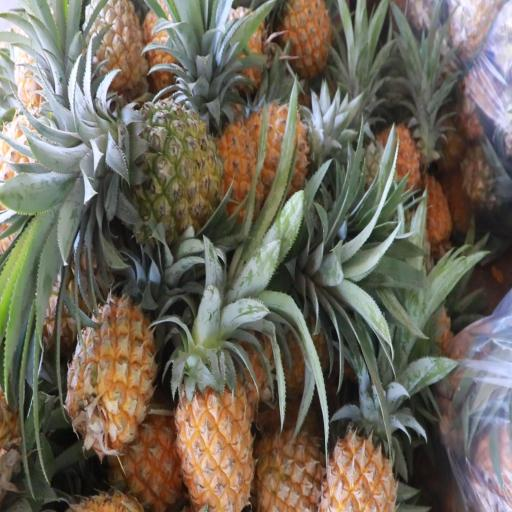Pineapple - v8 v1: (173, 327, 254, 511), (66, 296, 151, 470), (239, 109, 347, 198), (83, 0, 150, 104), (275, 0, 336, 85)
